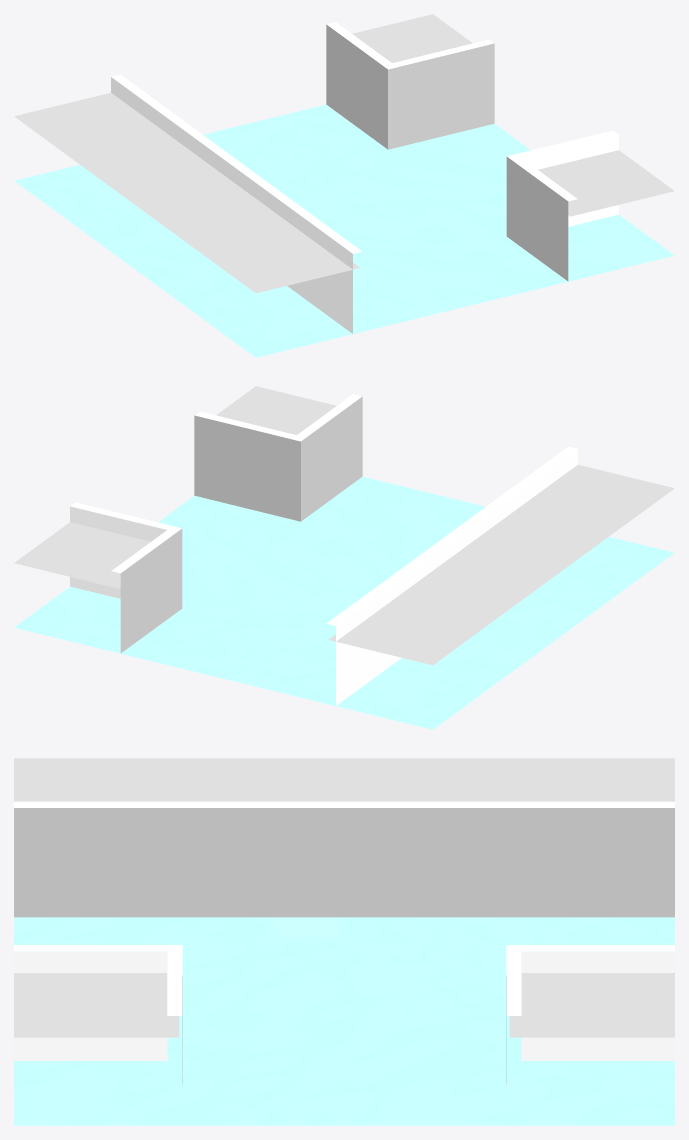
File: road_tile_river_1x1_4.glb
3 views of the same model, one above another, from view 1: azimuth 30°, elevation 25°; view 2: azimuth 150°, elevation 25°; view 3: azimuth 270°, elevation 25° (orthographic). The views are drawn at different scales.
Parts seen in each view (by area): view 1: road_tile_river_1x1_4(Clone); view 2: road_tile_river_1x1_4(Clone); view 3: road_tile_river_1x1_4(Clone).
Boxes of the visible parts, x1,y1,x2,y2 form: road_tile_river_1x1_4(Clone): (14, 14, 674, 357); road_tile_river_1x1_4(Clone): (14, 386, 674, 729); road_tile_river_1x1_4(Clone): (14, 758, 674, 1125).
Bounding box in the file's own units: 8 × 1.46 × 8.
Materials: 1 (1 with a texture image).
